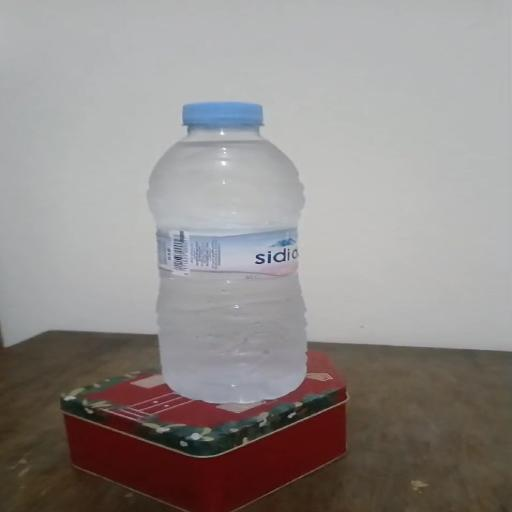bouteille conformite: (136, 87, 322, 408), (157, 186, 323, 282)
